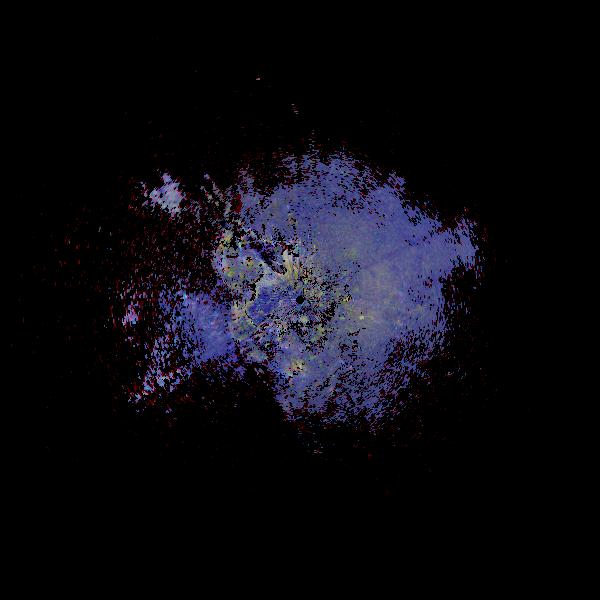roost: (284, 358, 314, 388)
